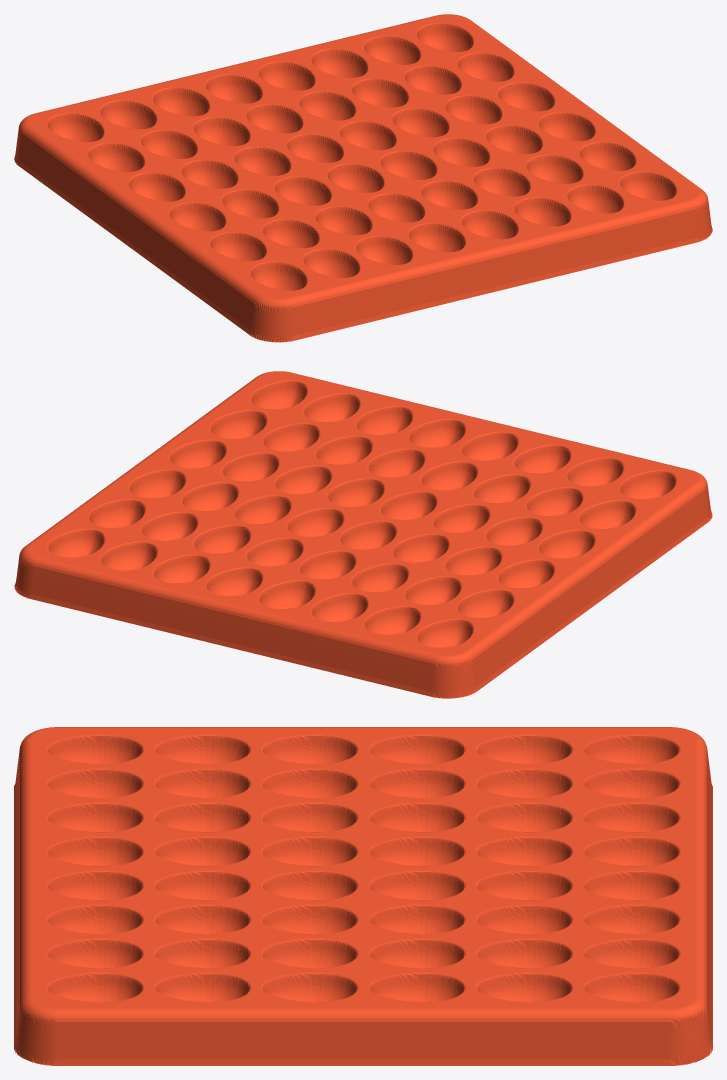
The model's file is mold.glb.
3 views of the same model, one above another, from view 1: azimuth 30°, elevation 25°; view 2: azimuth 150°, elevation 25°; view 3: azimuth 270°, elevation 25° (orthographic). The views are drawn at different scales.
Visible parts, largest first — view 1: geometry_0; view 2: geometry_0; view 3: geometry_0.
Boxes of the visible parts, bbox=[...] form: geometry_0: bbox=[14, 14, 712, 342]; geometry_0: bbox=[14, 371, 712, 698]; geometry_0: bbox=[14, 727, 712, 1065].
Size of the model in its own units: 0.1443 by 0.0114 by 0.1443.
